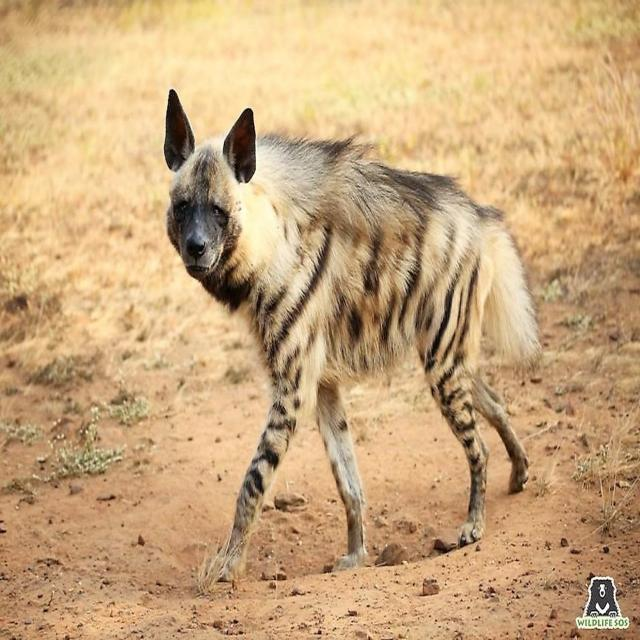Hyena: (155, 90, 528, 564)
